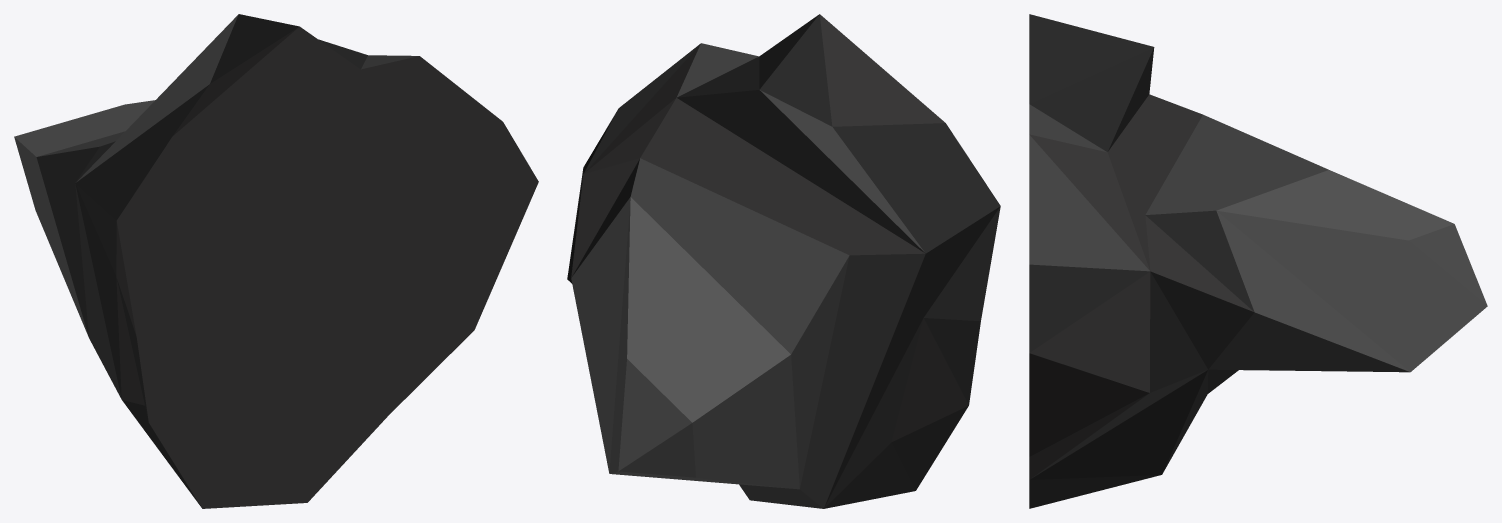
Rendered from volcano_mountain_2.fbx.
The picture shows the model from 3 angles, left to right: view 1: azimuth 30°, elevation 25°; view 2: azimuth 150°, elevation 25°; view 3: azimuth 270°, elevation 25°; orthographic projection. The views are drawn at different scales.
Parts seen in each view (by area): view 1: Cylinder.005; view 2: Cylinder.005; view 3: Cylinder.005.
Part boxes in pixels (bbox=[...]): Cylinder.005: bbox=[14, 14, 538, 508]; Cylinder.005: bbox=[567, 14, 1000, 508]; Cylinder.005: bbox=[1029, 14, 1487, 508].
Size of the model in its own units: 418 by 452 by 383.
